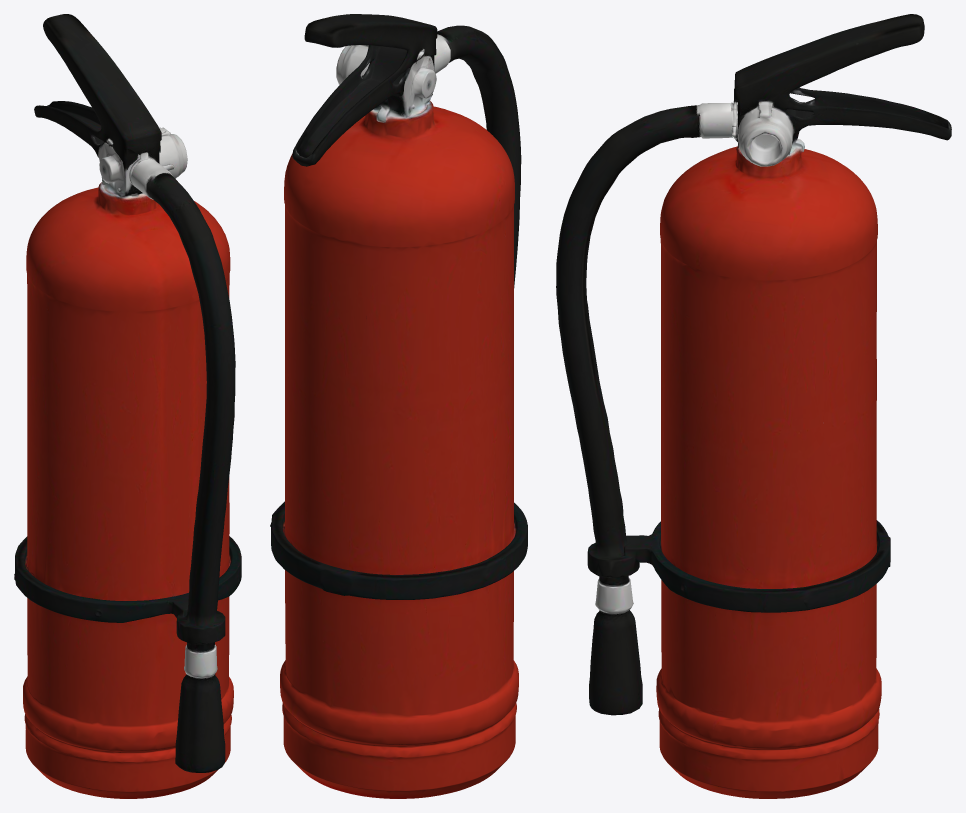
Rendered from extinguisher.glb.
3 renders of one model, left to right at view 1: azimuth 30°, elevation 25°; view 2: azimuth 150°, elevation 25°; view 3: azimuth 270°, elevation 25°, orthographic. The views are drawn at different scales.
Parts seen in each view (by area): view 1: tripo_node_3883aece-43c4-463a-8949-655da012bf1f; view 2: tripo_node_3883aece-43c4-463a-8949-655da012bf1f; view 3: tripo_node_3883aece-43c4-463a-8949-655da012bf1f.
Part boxes in pixels (x1=…): tripo_node_3883aece-43c4-463a-8949-655da012bf1f: x1=14, y1=14, x2=241, y2=798; tripo_node_3883aece-43c4-463a-8949-655da012bf1f: x1=270, y1=14, x2=527, y2=798; tripo_node_3883aece-43c4-463a-8949-655da012bf1f: x1=556, y1=14, x2=951, y2=798.
Bounding box in the file's own units: 0.2917 × 0.9787 × 0.4752.
1 material, 1 textured.
